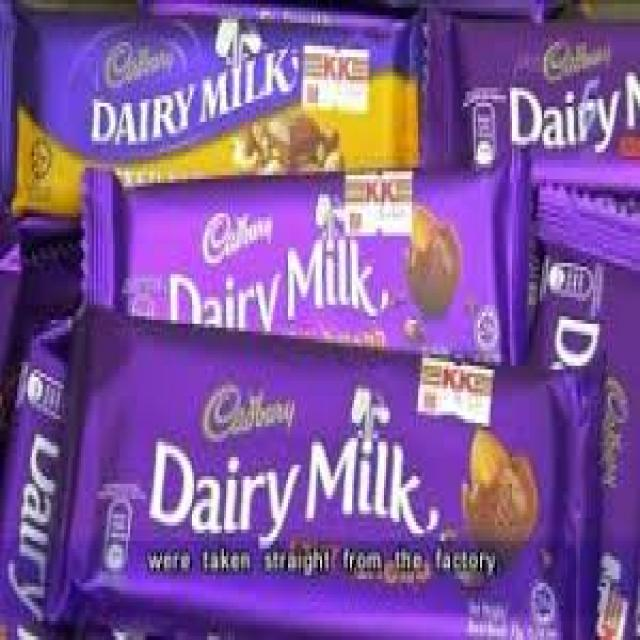cadbury: (66, 326, 602, 640), (84, 168, 529, 386), (2, 5, 427, 231), (424, 7, 640, 205)
